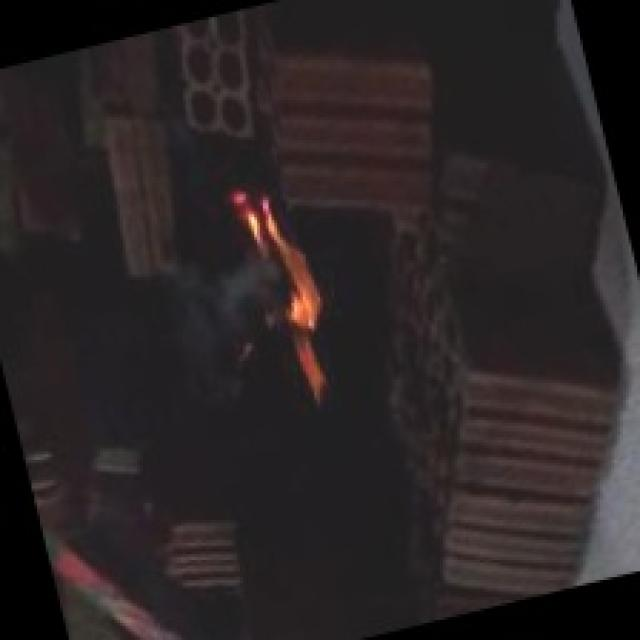fire: (210, 153, 376, 421)
